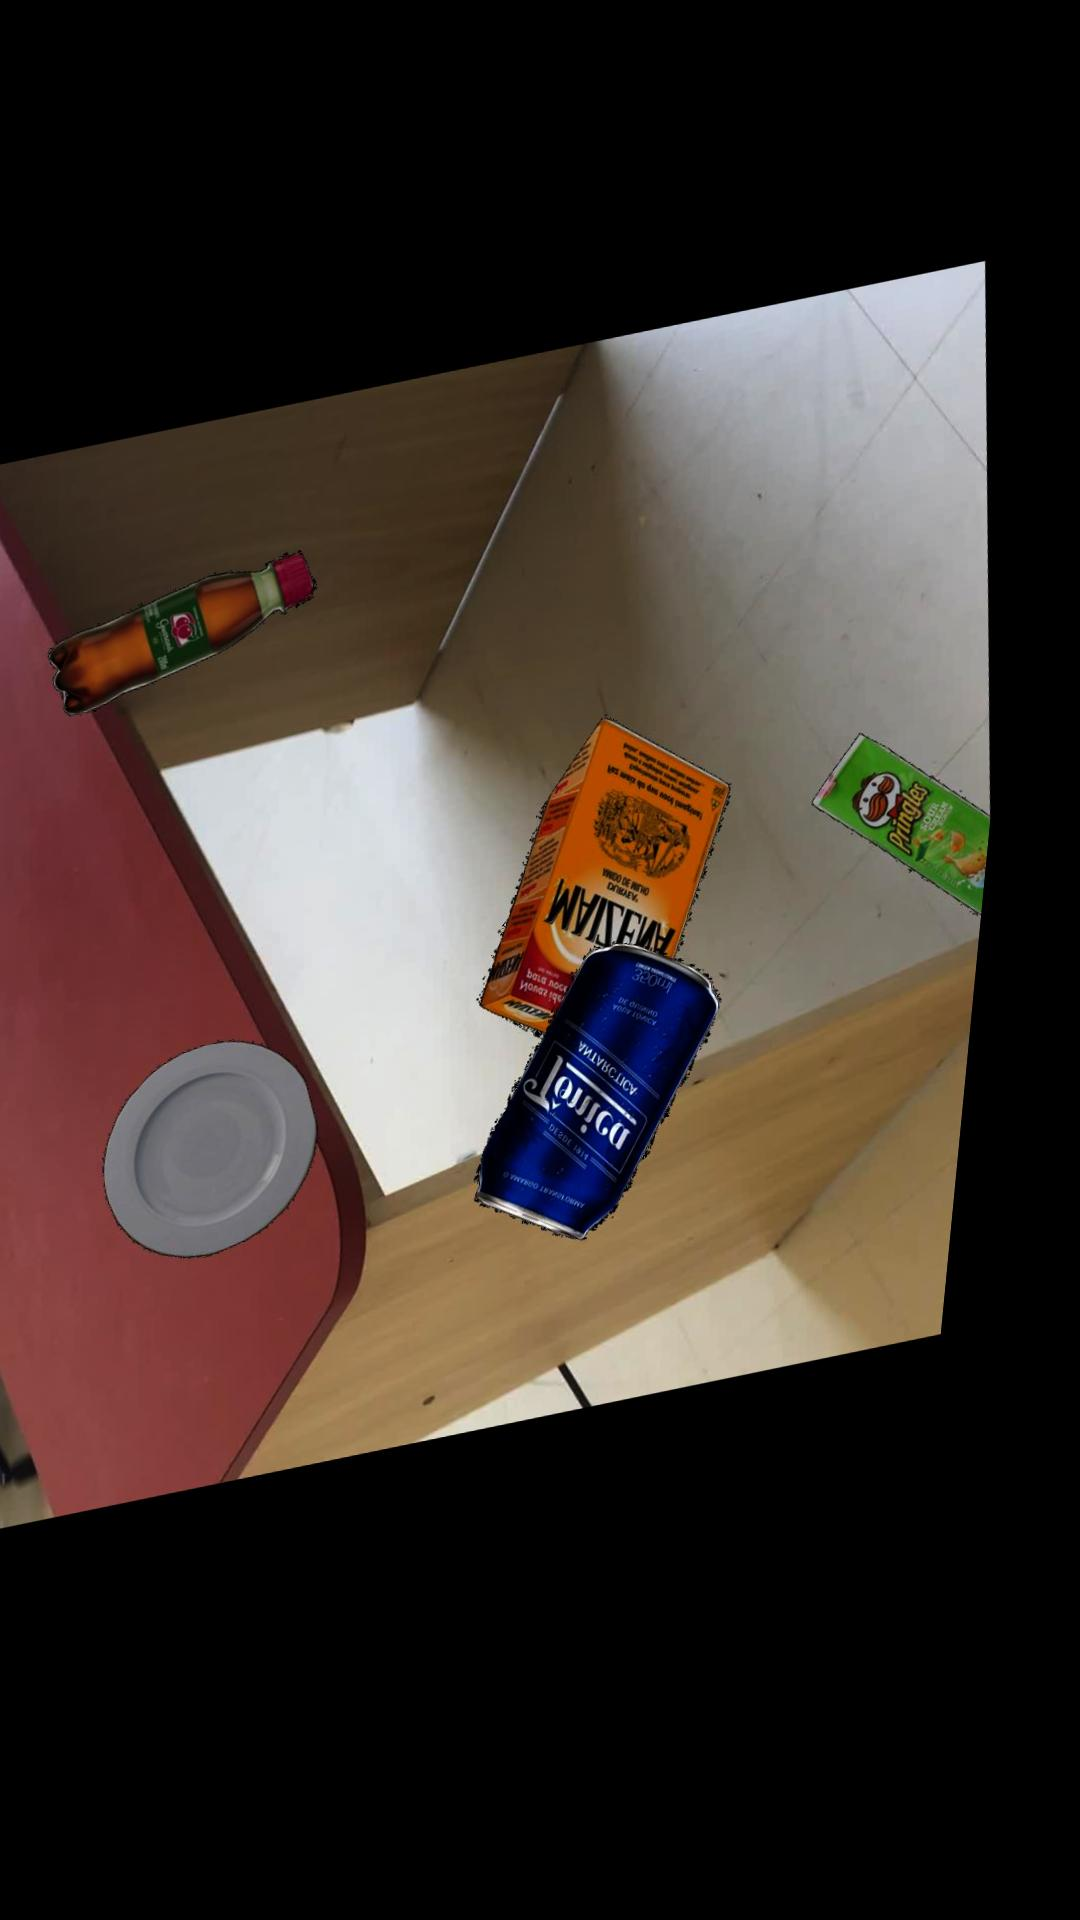guarana: (59, 560, 327, 721)
plate: (125, 1050, 339, 1267)
pringles: (828, 756, 1009, 943)
tonic: (497, 960, 740, 1258)
